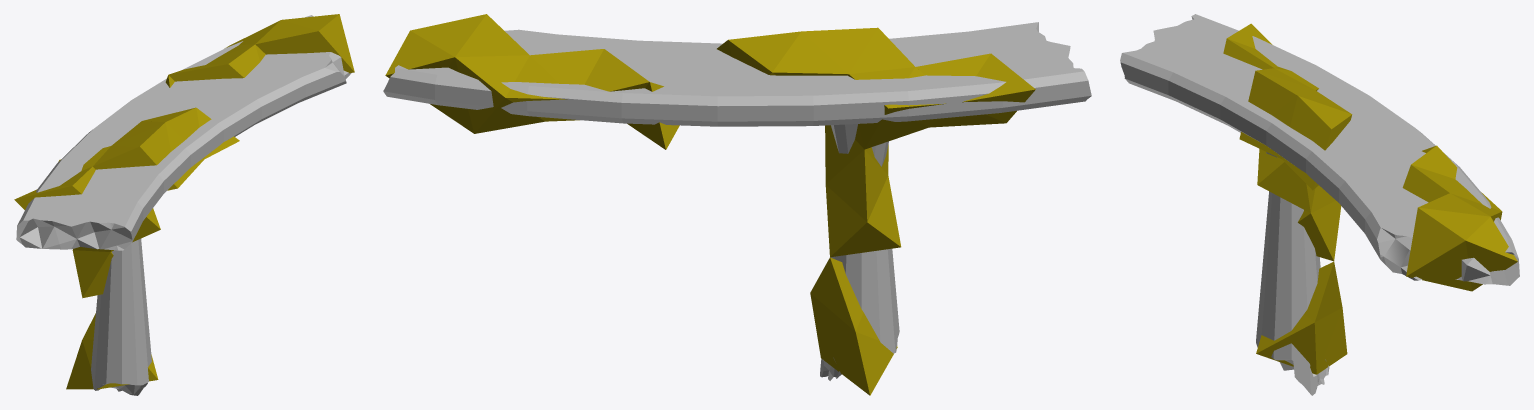
Rendered from SMT_Pillar_Range_09.fbx.
3 renders of one model, left to right at view 1: azimuth 30°, elevation 25°; view 2: azimuth 150°, elevation 25°; view 3: azimuth 270°, elevation 25°, orthographic. The views are drawn at different scales.
Visible parts, largest first — view 1: SM_Pillar_Range_09, chunk37_28, chunk32_23, chunk5_6, chunk17_36, chunk29_20, chunk22_13, chunk12_31, chunk1_1, chunk25_16, chunk6_7, chunk9_10 (+6 smaller); view 2: SM_Pillar_Range_09, chunk4_5, chunk1_1, chunk18_0, chunk0_37, chunk14_33, chunk17_36, chunk6_7, chunk30_21, chunk29_20, chunk32_23, chunk31_22 (+13 smaller); view 3: SM_Pillar_Range_09, chunk37_28, chunk2_3, chunk34_25, chunk22_13, chunk17_36, chunk4_5, chunk36_27, chunk19_2, chunk0_37, chunk29_20, chunk1_1 (+9 smaller).
Part boxes in pixels (x1,y1,x2,y2): SM_Pillar_Range_09: (16, 15, 351, 395); chunk37_28: (282, 14, 354, 73); chunk32_23: (255, 20, 318, 54); chunk5_6: (72, 250, 113, 298); chunk17_36: (111, 122, 177, 190); chunk29_20: (206, 44, 259, 78); chunk22_13: (143, 107, 204, 158); chunk12_31: (93, 146, 139, 169); chunk1_1: (66, 340, 97, 389); chunk25_16: (168, 64, 228, 81); chunk6_7: (14, 185, 71, 209); chunk9_10: (60, 166, 94, 195); SM_Pillar_Range_09: (383, 22, 1091, 380); chunk4_5: (825, 185, 900, 257); chunk1_1: (821, 332, 897, 395); chunk18_0: (826, 150, 888, 221); chunk0_37: (810, 257, 863, 331); chunk14_33: (772, 31, 848, 75); chunk17_36: (802, 27, 877, 73); chunk6_7: (962, 53, 1035, 123); chunk30_21: (455, 57, 544, 133); chunk29_20: (530, 49, 603, 84); chunk32_23: (455, 14, 529, 57); chunk31_22: (455, 55, 529, 97); SM_Pillar_Range_09: (1120, 14, 1519, 395); chunk37_28: (1406, 207, 1489, 276); chunk2_3: (1256, 308, 1342, 374); chunk34_25: (1466, 217, 1517, 291); chunk22_13: (1282, 96, 1351, 158); chunk17_36: (1239, 71, 1314, 138); chunk4_5: (1298, 200, 1341, 261); chunk36_27: (1406, 241, 1471, 291); chunk19_2: (1258, 162, 1314, 213); chunk0_37: (1304, 261, 1342, 322); chunk29_20: (1402, 164, 1464, 202); chunk1_1: (1317, 308, 1347, 374).
Bounding box in the file's own units: 449 × 265 × 305.
